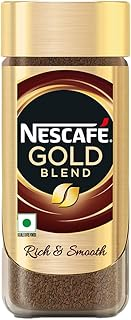Coffee: (1, 2, 131, 318)
